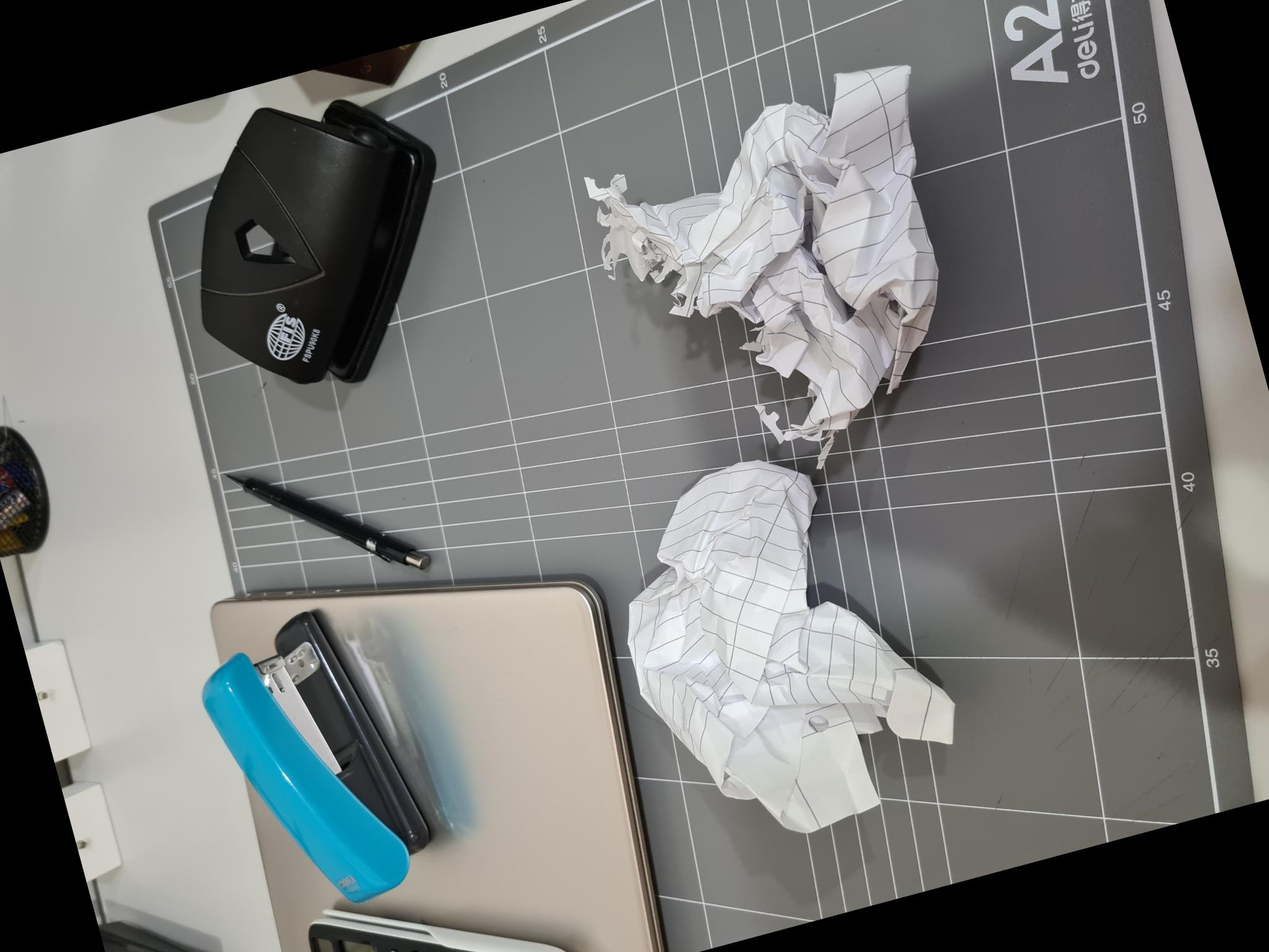Kertas: (555, 641, 902, 952), (169, 660, 499, 952)
